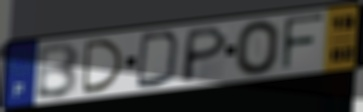B: (33, 40, 82, 101)
D: (134, 30, 182, 90), (81, 37, 126, 96)
F: (280, 12, 328, 73)
O: (234, 19, 282, 78)
P: (178, 24, 230, 84)
